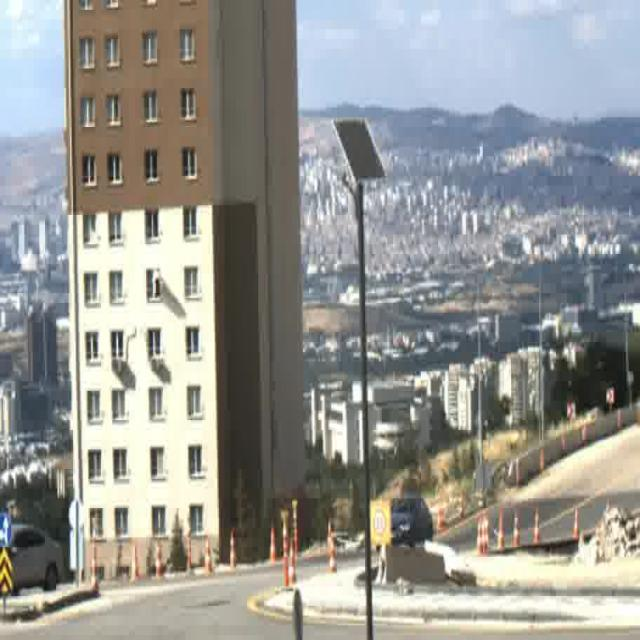Car: (11, 522, 64, 588), (377, 497, 432, 547)
